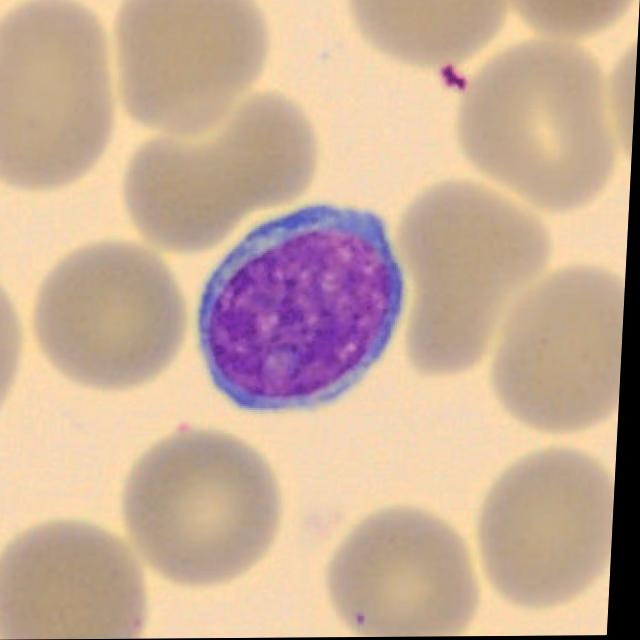Linfocito atipico: (199, 205, 407, 414)
